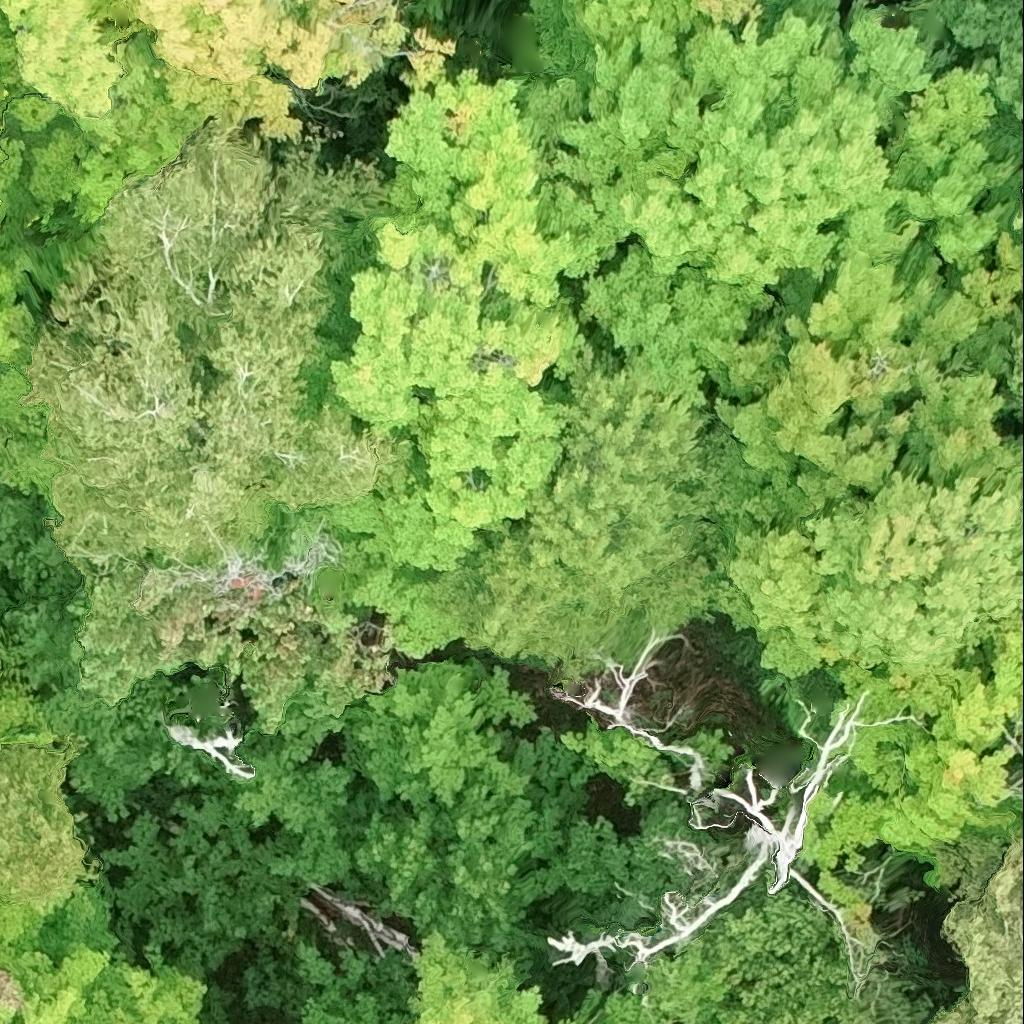crown: (690, 243, 1023, 907), (511, 0, 1015, 400), (300, 68, 602, 655), (20, 119, 416, 557), (690, 243, 1023, 679), (0, 0, 458, 285), (458, 331, 746, 683), (549, 670, 839, 962), (68, 505, 400, 734), (99, 707, 354, 974), (334, 728, 584, 977), (0, 574, 202, 820), (334, 654, 537, 808), (0, 874, 208, 1023), (296, 932, 548, 1023), (0, 734, 102, 917), (929, 838, 1023, 1023), (930, 0, 1023, 125), (0, 69, 36, 364), (0, 344, 59, 504), (0, 484, 78, 591), (0, 662, 67, 740), (168, 726, 254, 778), (558, 987, 668, 1023), (698, 0, 757, 17), (0, 969, 27, 1006)
